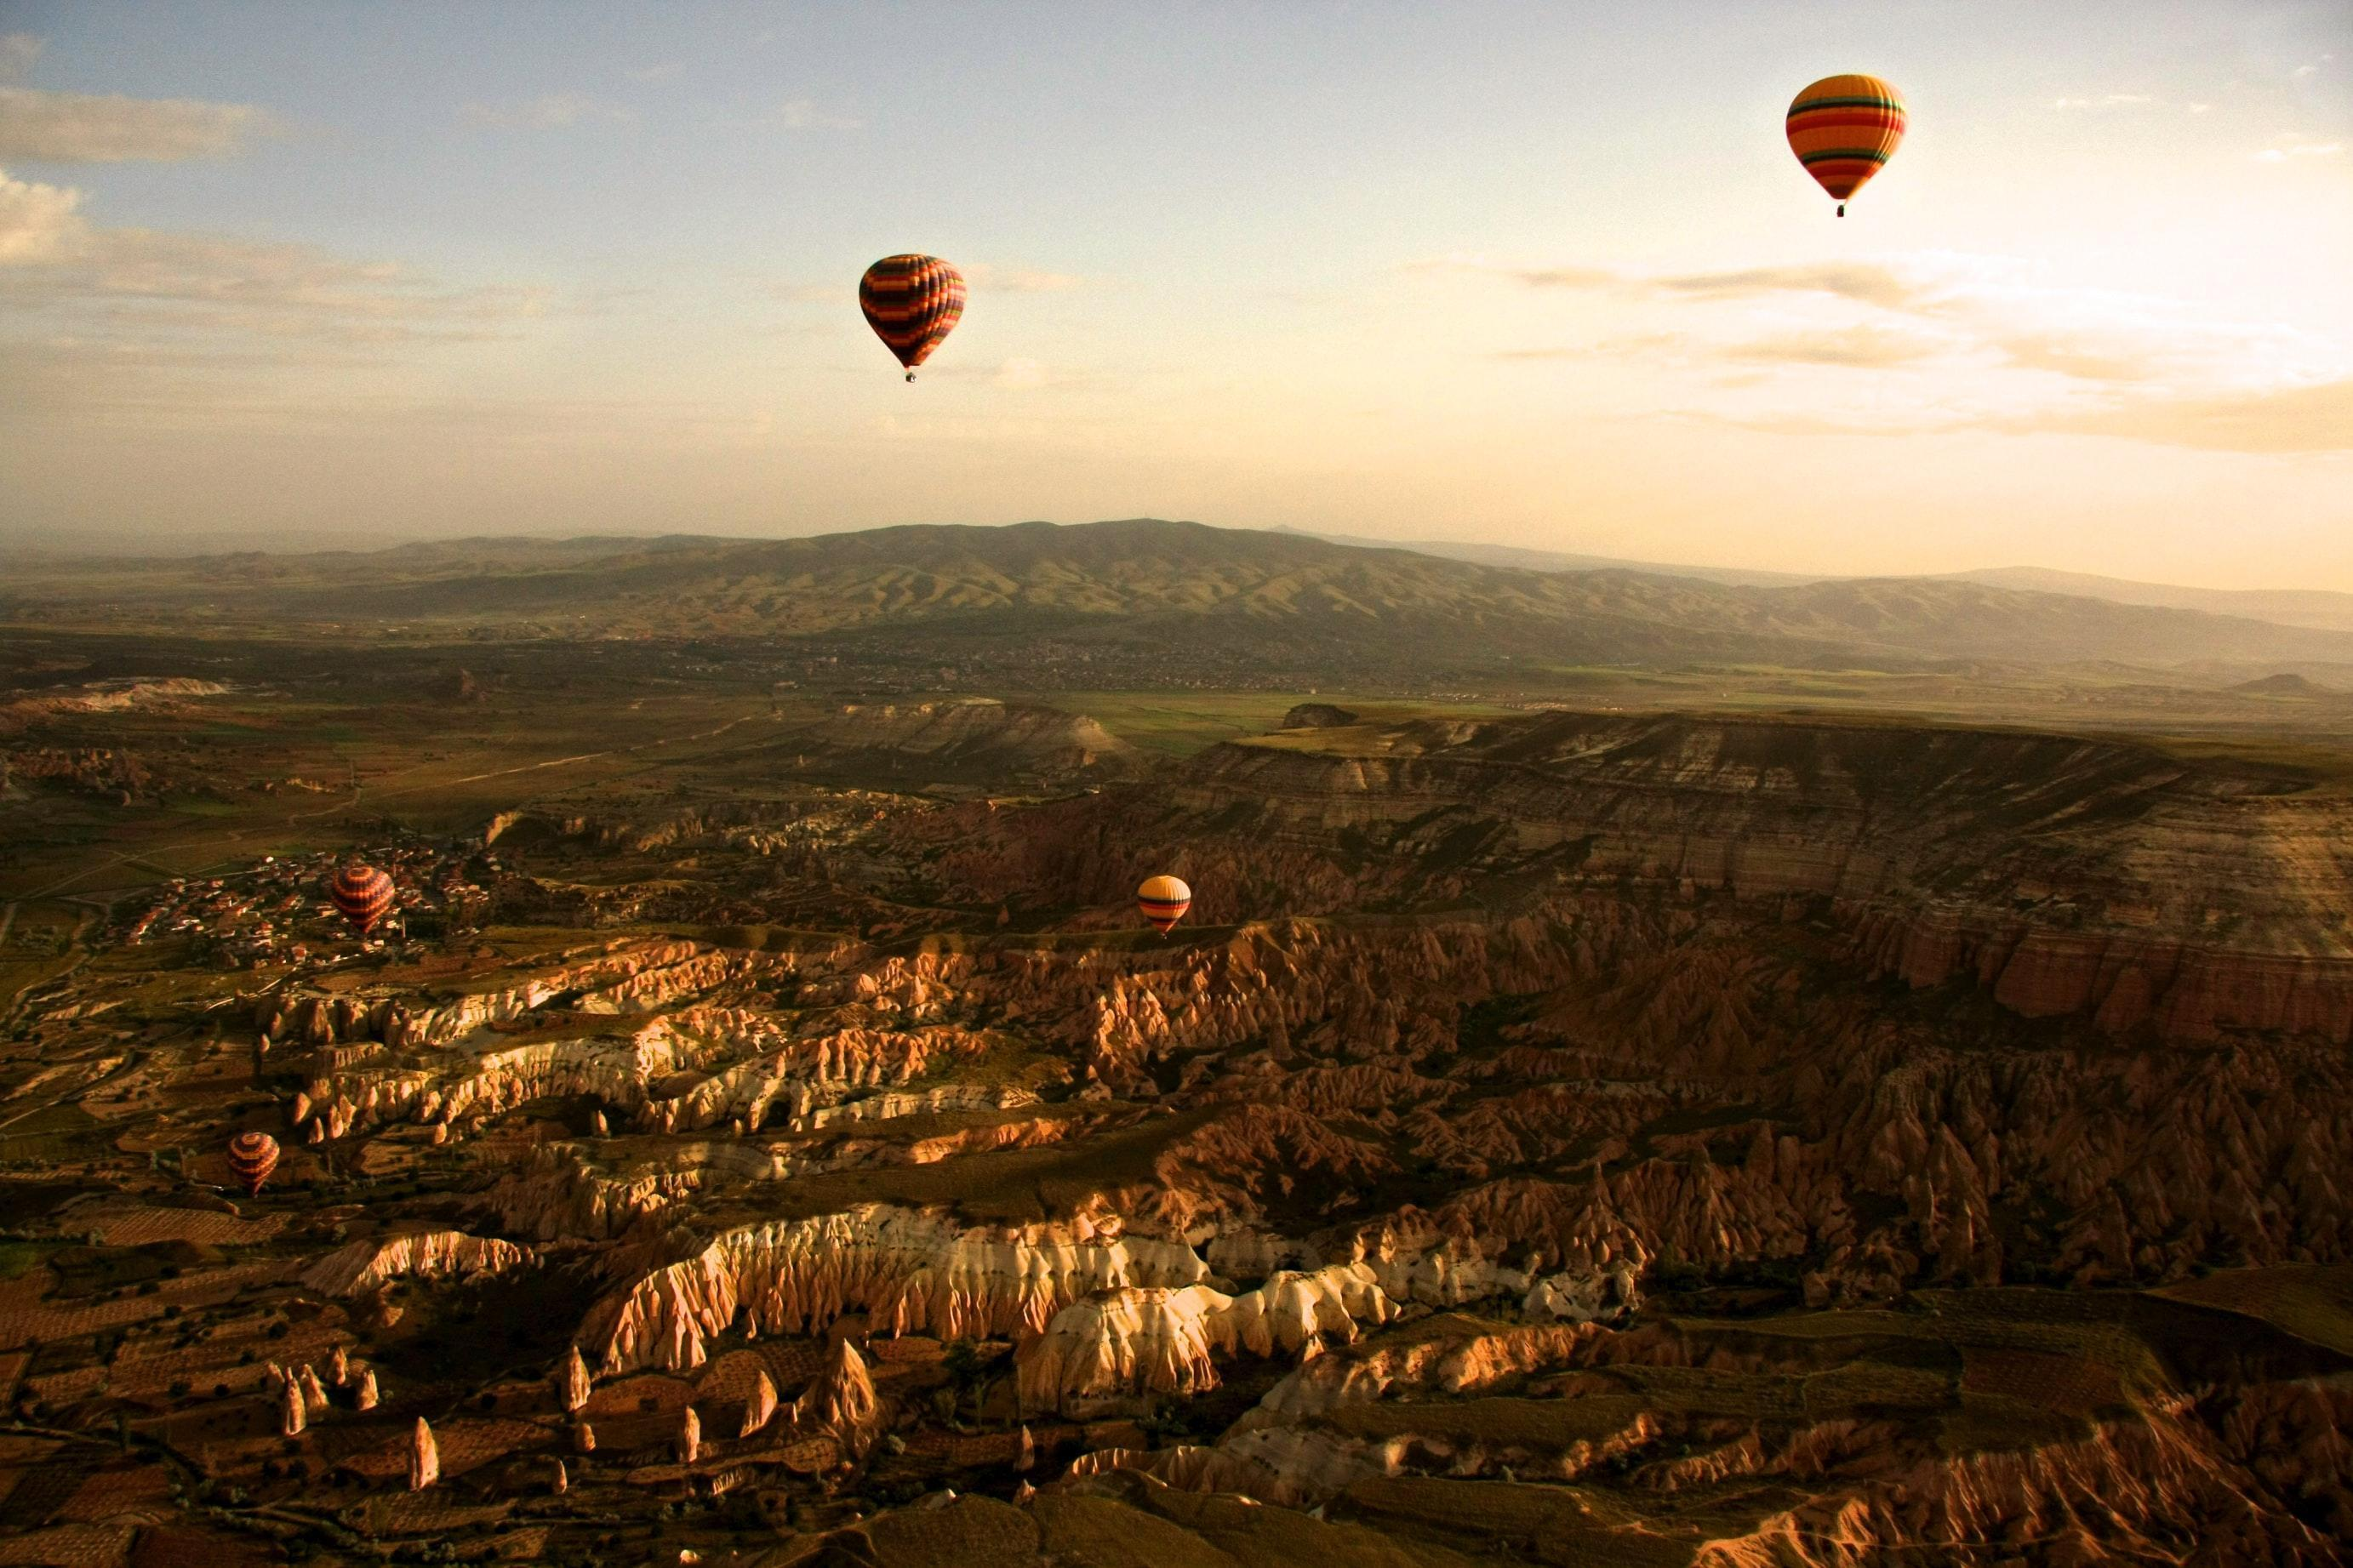hot air ballon: (1786, 73, 1908, 217), (860, 254, 966, 383)
